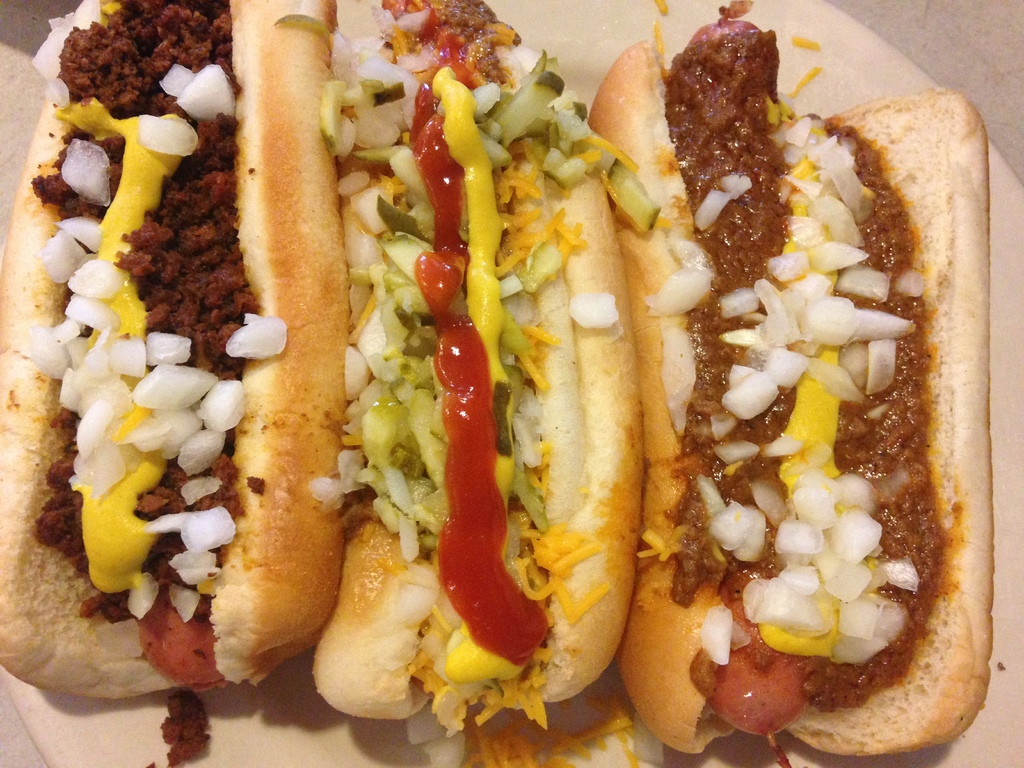hot_dog: (588, 0, 991, 767), (308, 0, 644, 738), (0, 0, 351, 693), (0, 0, 332, 689)
